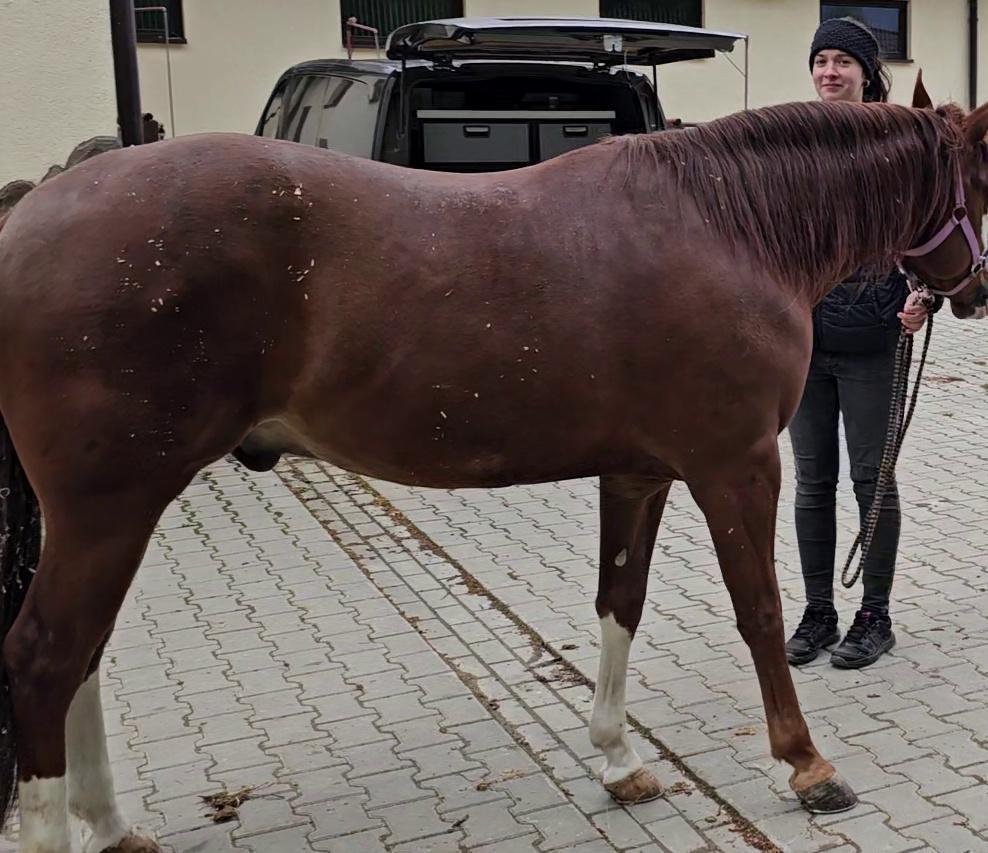horse: (0, 77, 987, 851)
